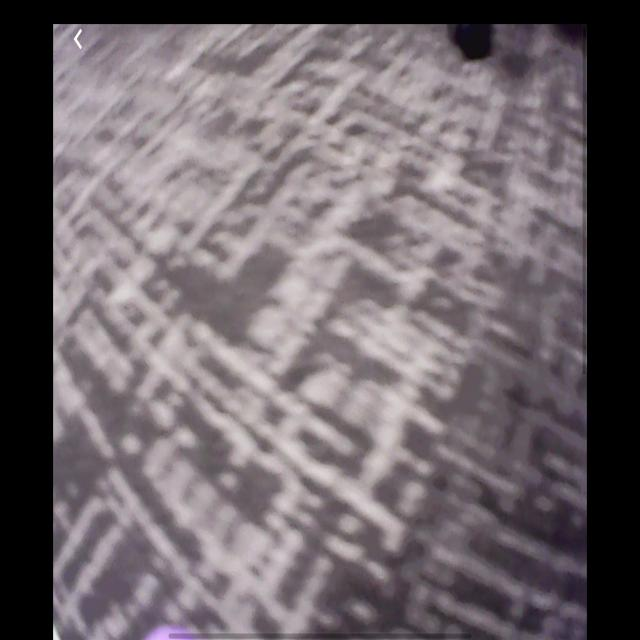ball: (143, 624, 198, 640)
